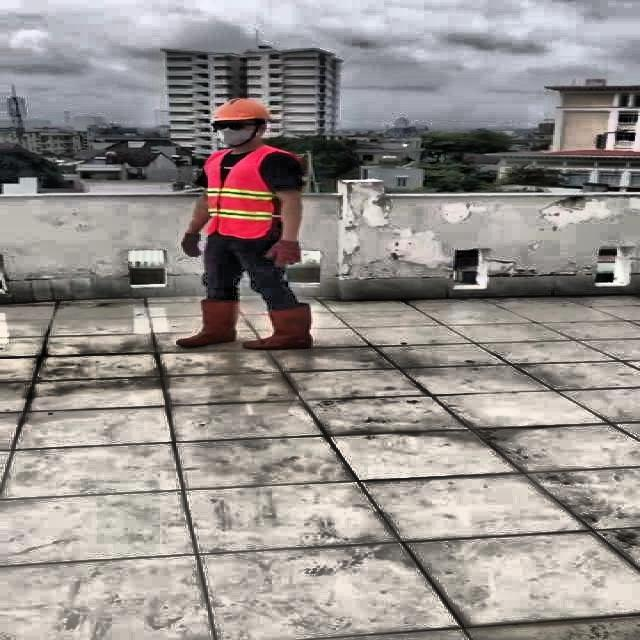safety_helmet: (210, 98, 268, 124)
safety_jacket: (200, 150, 278, 237)
